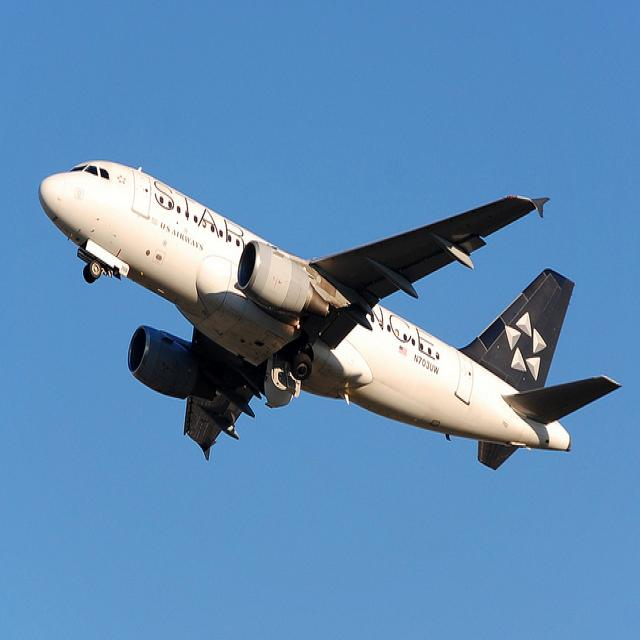airplane: (35, 156, 623, 472)
